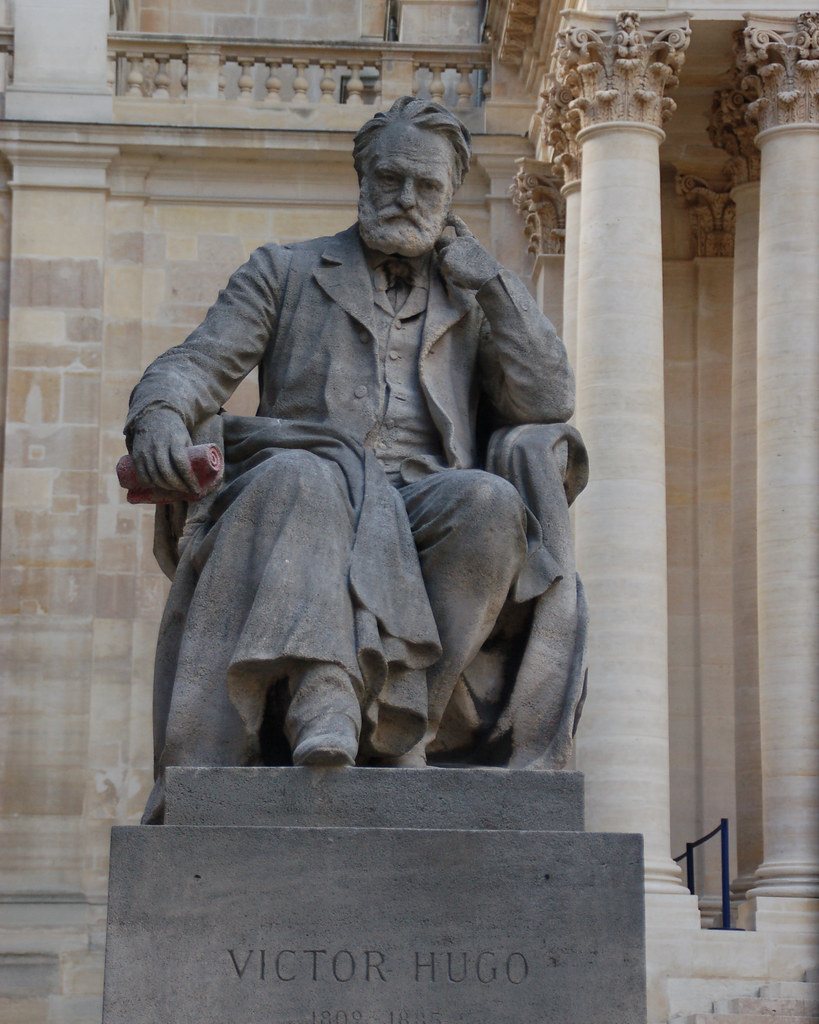person-like: (100, 88, 604, 772)
